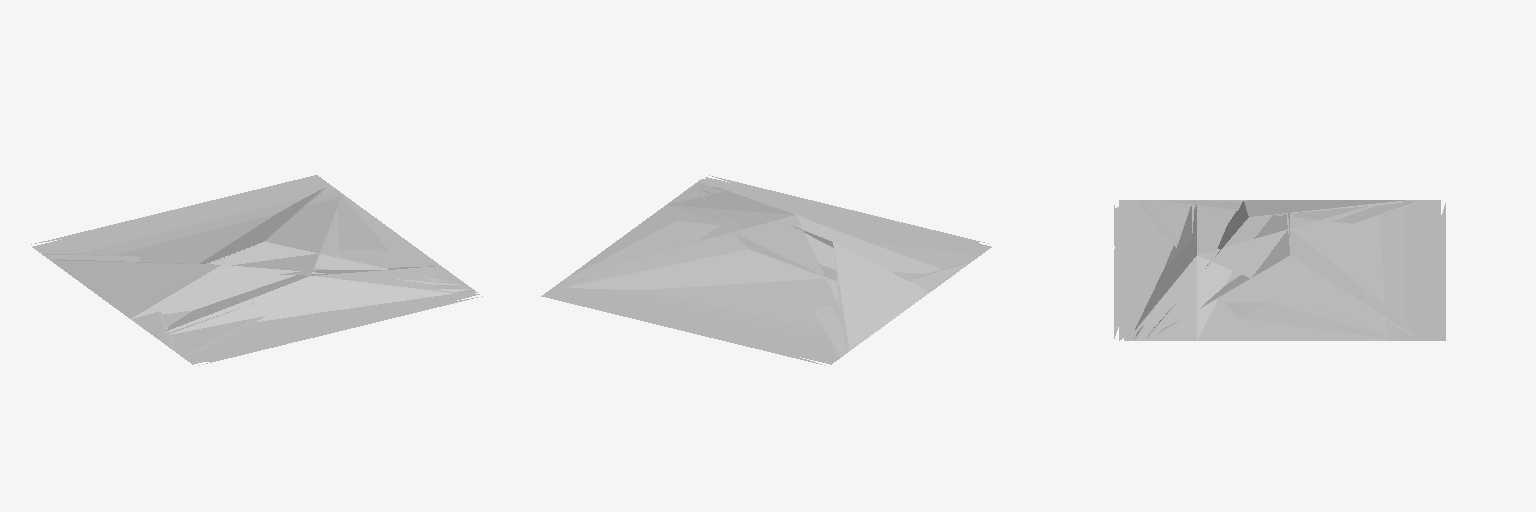
The model's file is hm3small.obj.
3 renders of one model, left to right at view 1: azimuth 30°, elevation 25°; view 2: azimuth 150°, elevation 25°; view 3: azimuth 270°, elevation 25°, orthographic.
Visible parts, largest first — view 1: Height_Map; view 2: Height_Map; view 3: Height_Map.
Boxes of the visible parts, x1,y1,x2,y2 form: Height_Map: [31, 175, 482, 365]; Height_Map: [541, 175, 991, 365]; Height_Map: [1114, 200, 1445, 340].
Bounding box in the file's own units: 1024 × 100 × 1024.